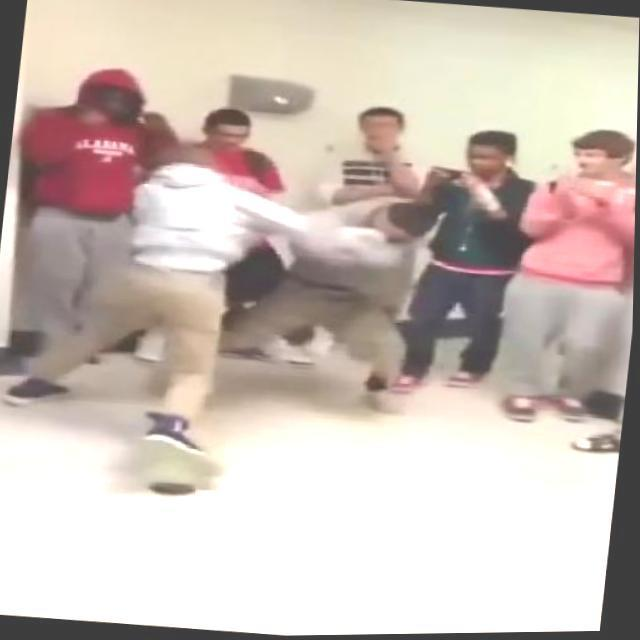fight: (0, 131, 453, 514)
